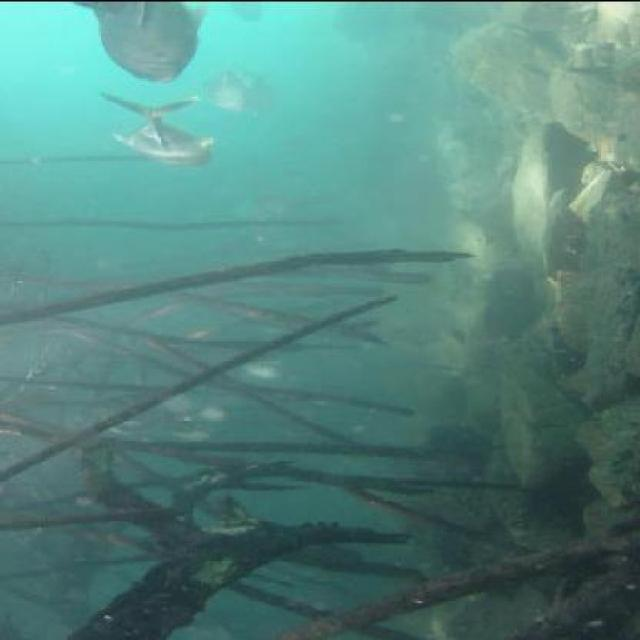Caranx_sexfasciatus_juvenile: (68, 0, 214, 83), (97, 90, 223, 168), (236, 60, 292, 122), (193, 59, 253, 116)
